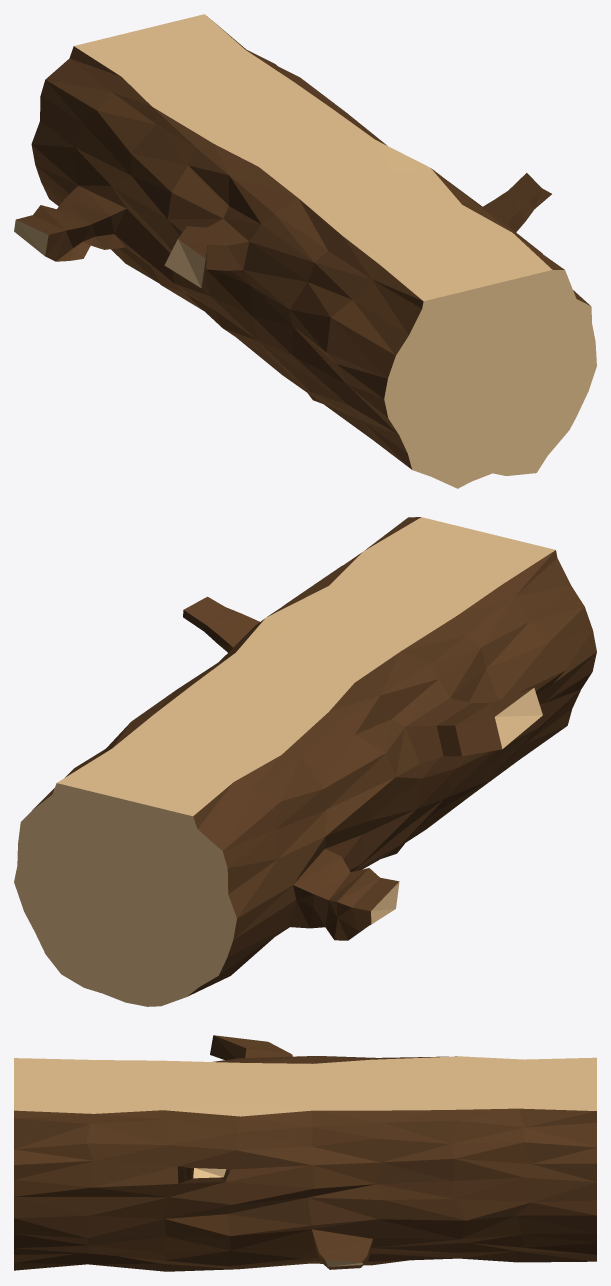
The model's file is treeplatform.fbx.
The picture shows the model from 3 angles, top to bottom: view 1: azimuth 30°, elevation 25°; view 2: azimuth 150°, elevation 25°; view 3: azimuth 270°, elevation 25°; orthographic projection. The views are drawn at different scales.
Parts seen in each view (by area): view 1: Cylinder; view 2: Cylinder; view 3: Cylinder.
Part boxes in pixels (x1=…): Cylinder: x1=14, y1=14, x2=596, y2=488; Cylinder: x1=14, y1=517, x2=596, y2=1006; Cylinder: x1=14, y1=1035, x2=596, y2=1271.
Size of the model in its own units: 684 by 388 by 1173.
